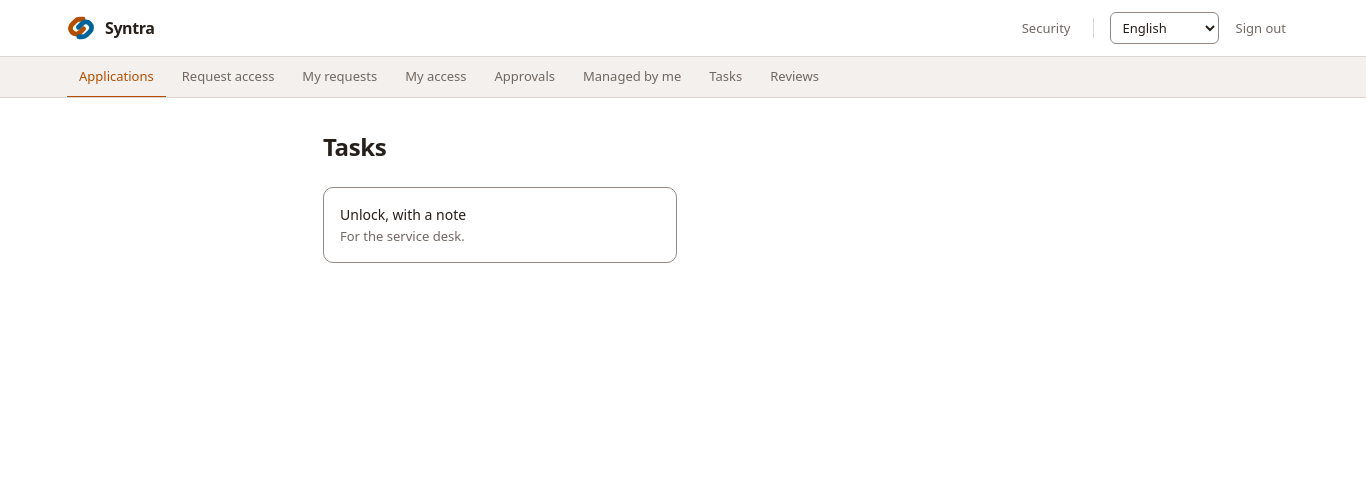
Scenario: TasksPage › shows a hidden field only once its condition holds
Click the button "Unlock, with a note For the service desk." at (403,215), box [323,187,677,263]
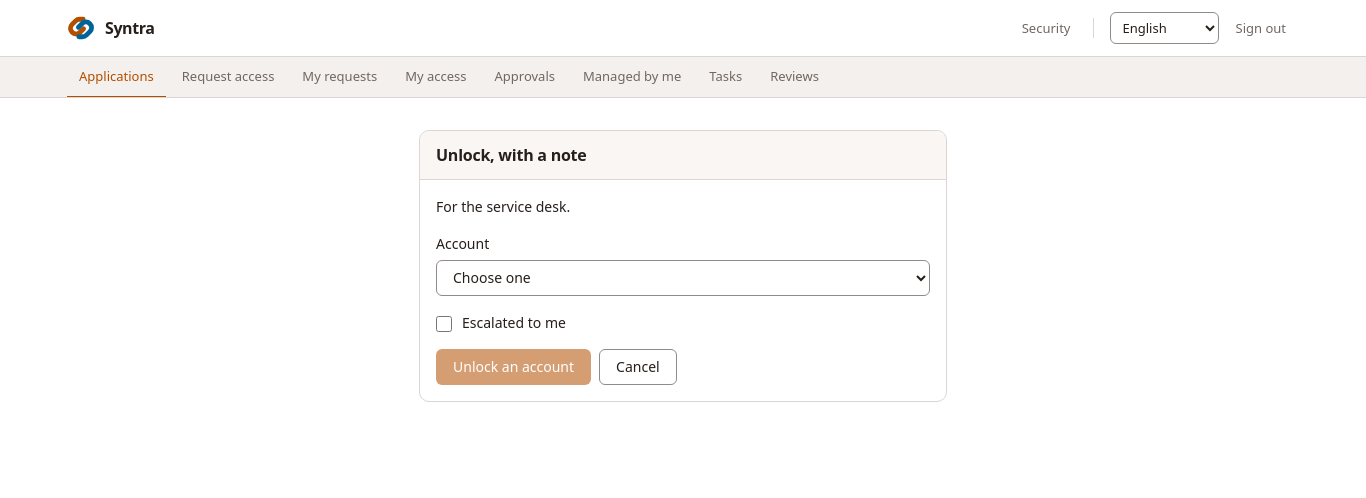
Check: the field labelled "who escalated it" is not shown
Click the checkbox labelled "Escalated to me" at (444,324), box [436,316,452,332]
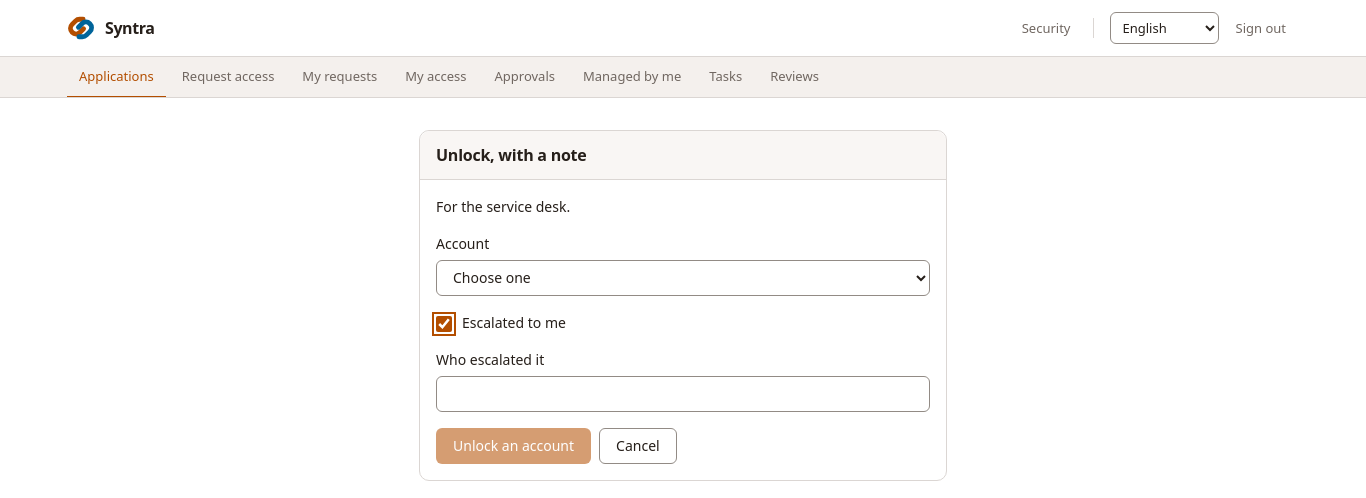
Check: the field labelled "Who escalated it" is shown, box [436,376,930,412]
